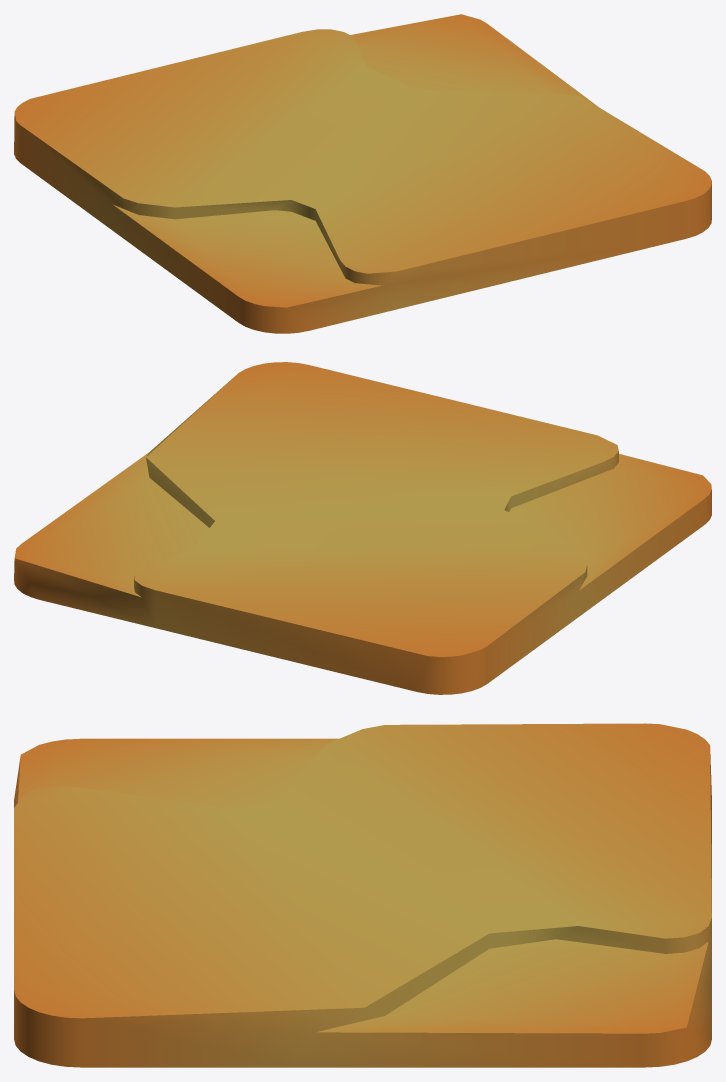
3 views of the same model, one above another, from view 1: azimuth 30°, elevation 25°; view 2: azimuth 150°, elevation 25°; view 3: azimuth 270°, elevation 25° (orthographic). The views are drawn at different scales.
Visible parts, largest first — view 1: LOD 1_332424658592034533_2d0e7e9e3a92c6c43b8ba9db1d431990; view 2: LOD 1_332424658592034533_2d0e7e9e3a92c6c43b8ba9db1d431990; view 3: LOD 1_332424658592034533_2d0e7e9e3a92c6c43b8ba9db1d431990.
Boxes of the visible parts, bbox=[...] form: LOD 1_332424658592034533_2d0e7e9e3a92c6c43b8ba9db1d431990: bbox=[14, 14, 711, 333]; LOD 1_332424658592034533_2d0e7e9e3a92c6c43b8ba9db1d431990: bbox=[14, 362, 711, 694]; LOD 1_332424658592034533_2d0e7e9e3a92c6c43b8ba9db1d431990: bbox=[14, 723, 711, 1067].
Bounding box in the file's own units: 5.67 × 0.44 × 5.67.
